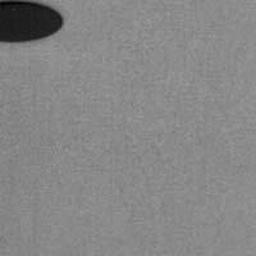Punching: (0, 0, 65, 44)
